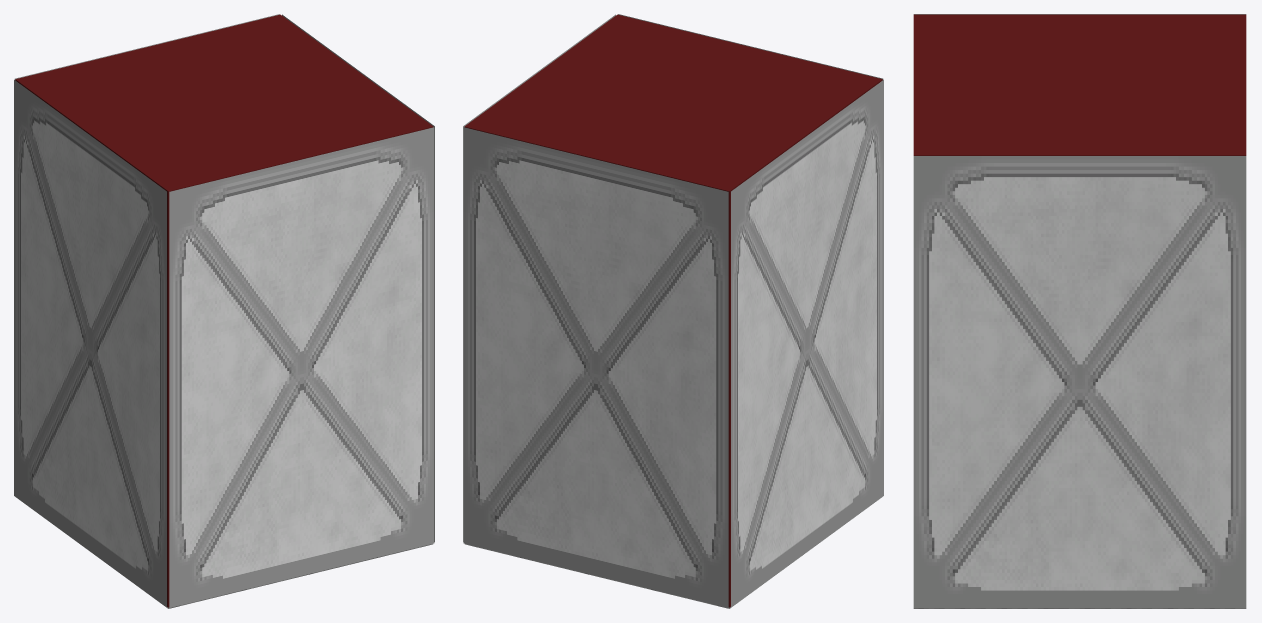
File: devheatstorage.obj
The picture shows the model from 3 angles, left to right: view 1: azimuth 30°, elevation 25°; view 2: azimuth 150°, elevation 25°; view 3: azimuth 270°, elevation 25°; orthographic projection. The views are drawn at different scales.
Parts seen in each view (by area): view 1: Devheatstorage5, Devheatstorage4, Devheatstorage1, Devheatstorage2; view 2: Devheatstorage3, Devheatstorage4, Devheatstorage1, Devheatstorage2; view 3: Devheatstorage2, Devheatstorage1.
Part boxes in pixels (left/top/right/bottom): Devheatstorage5: left=169, top=127, right=434, bottom=607; Devheatstorage4: left=14, top=80, right=166, bottom=607; Devheatstorage1: left=15, top=14, right=433, bottom=607; Devheatstorage2: left=282, top=14, right=434, bottom=542; Devheatstorage3: left=463, top=127, right=728, bottom=607; Devheatstorage4: left=731, top=80, right=883, bottom=607; Devheatstorage1: left=464, top=14, right=882, bottom=607; Devheatstorage2: left=463, top=14, right=615, bottom=542; Devheatstorage2: left=913, top=156, right=1246, bottom=608; Devheatstorage1: left=913, top=14, right=1246, bottom=155.
Size of the model in its own units: 4.04 by 6.02 by 4.04.
Materials: 3 (2 with a texture image).
